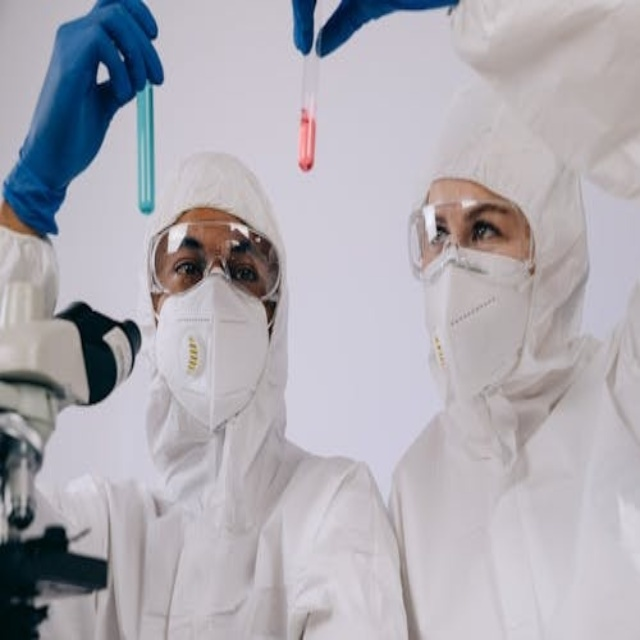Gafas: (149, 220, 284, 307), (407, 200, 535, 283)
Guantes: (3, 0, 169, 238), (287, 2, 460, 54)
Mascara: (416, 218, 537, 402), (153, 258, 272, 429)
